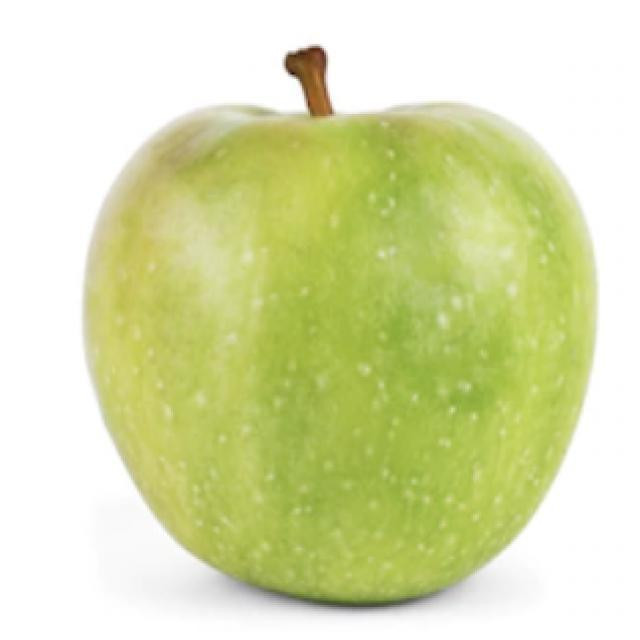Fresh Apple: (95, 98, 588, 597)
